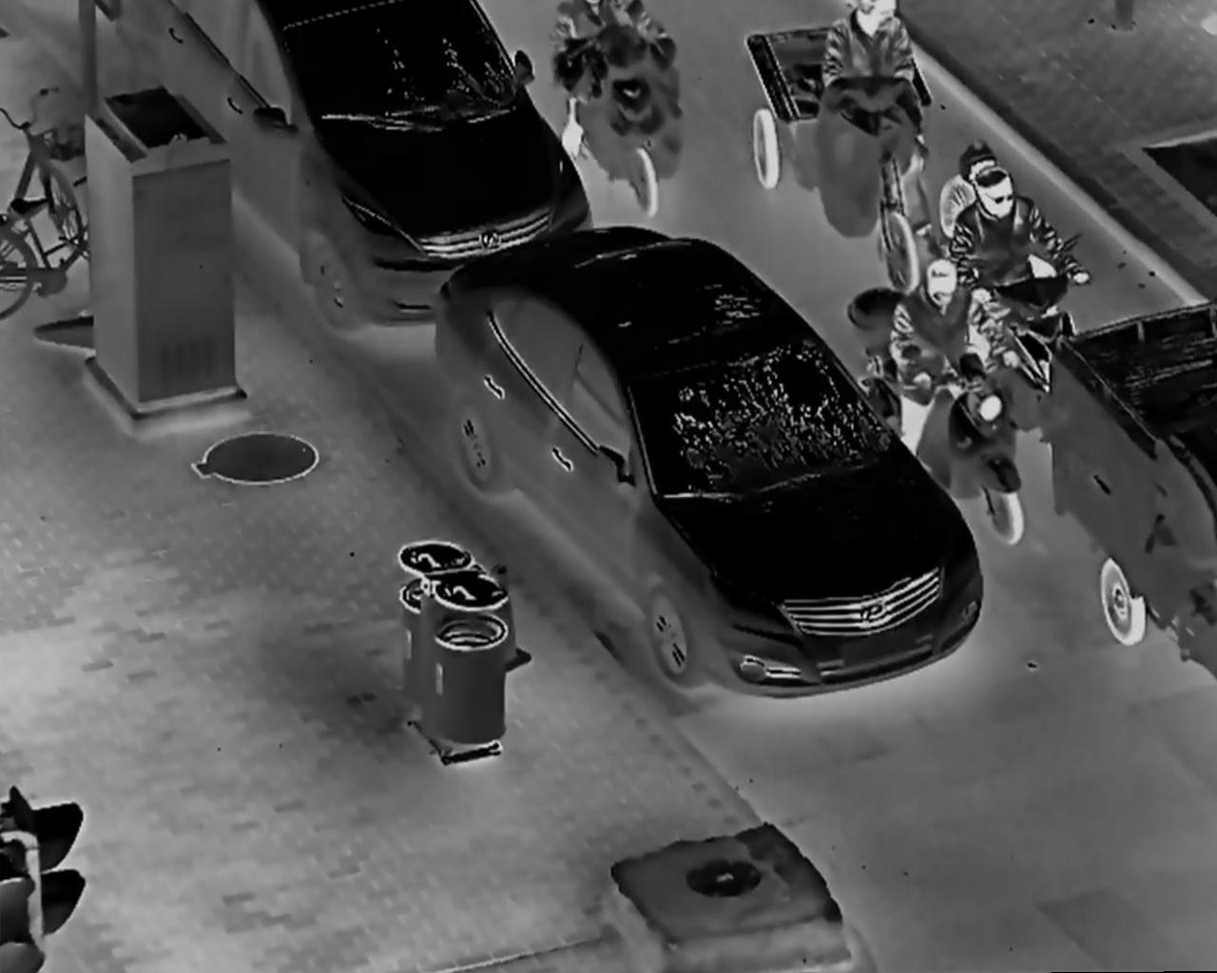person: (950, 169, 1091, 387), (889, 259, 1020, 466), (936, 143, 1023, 340)
